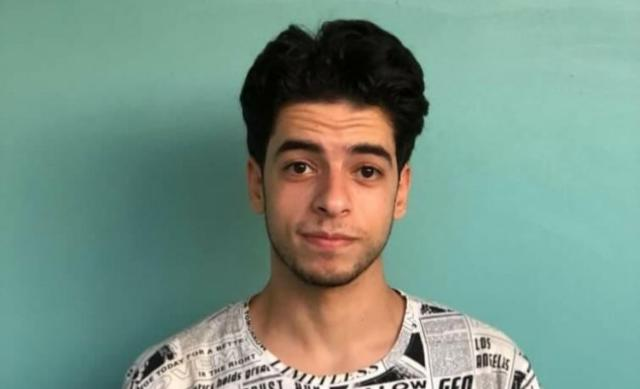forehead: (328, 118, 366, 134), (296, 113, 320, 131)
